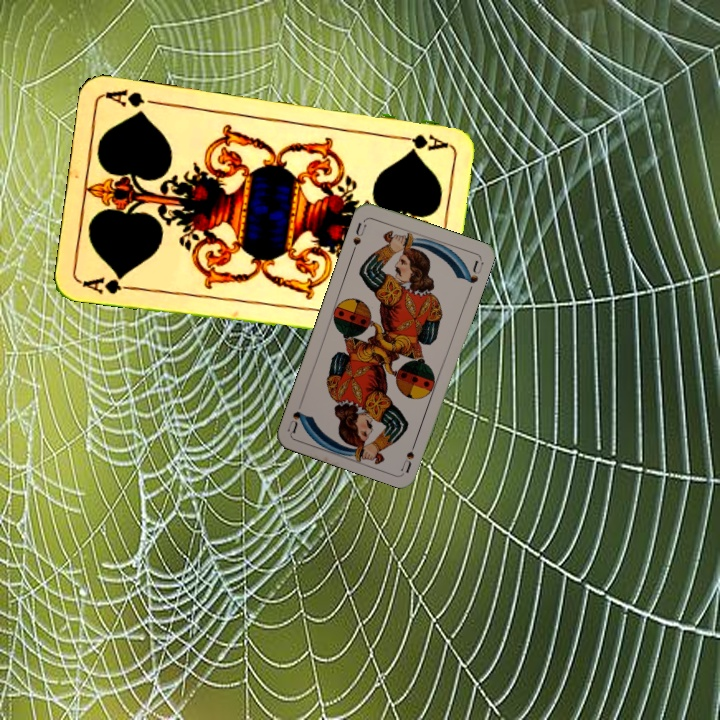GA: (78, 271, 137, 297), (390, 130, 450, 154)
SU: (397, 434, 420, 474), (348, 216, 369, 255)
